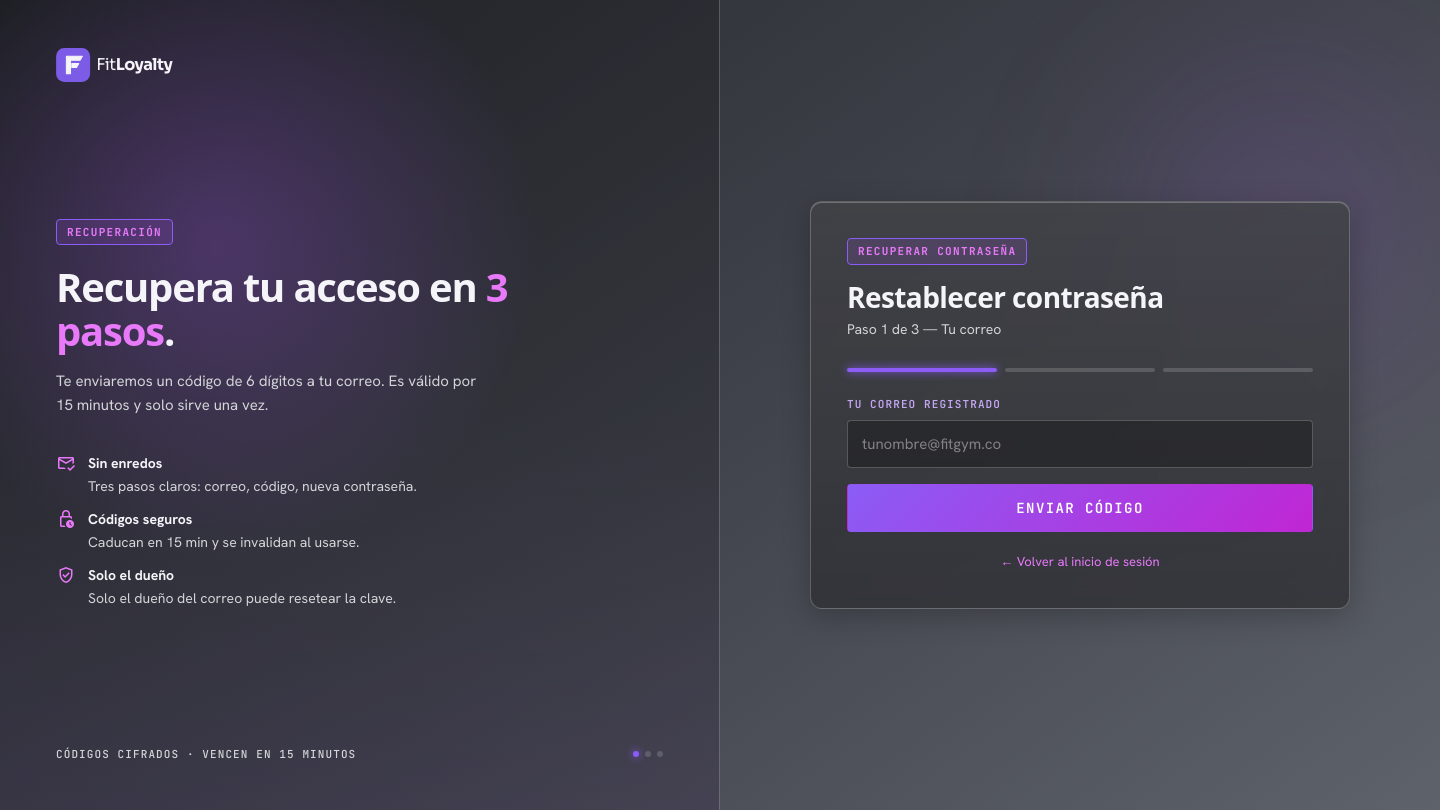
Test: ForgotPasswordPage: pedir el codigo › should show the API error and stay on the email step when the code cannot be sent
Type "ana@gym.co" into the field labelled "Tu correo registrado" at (1080, 444), box [847,420,1313,468]
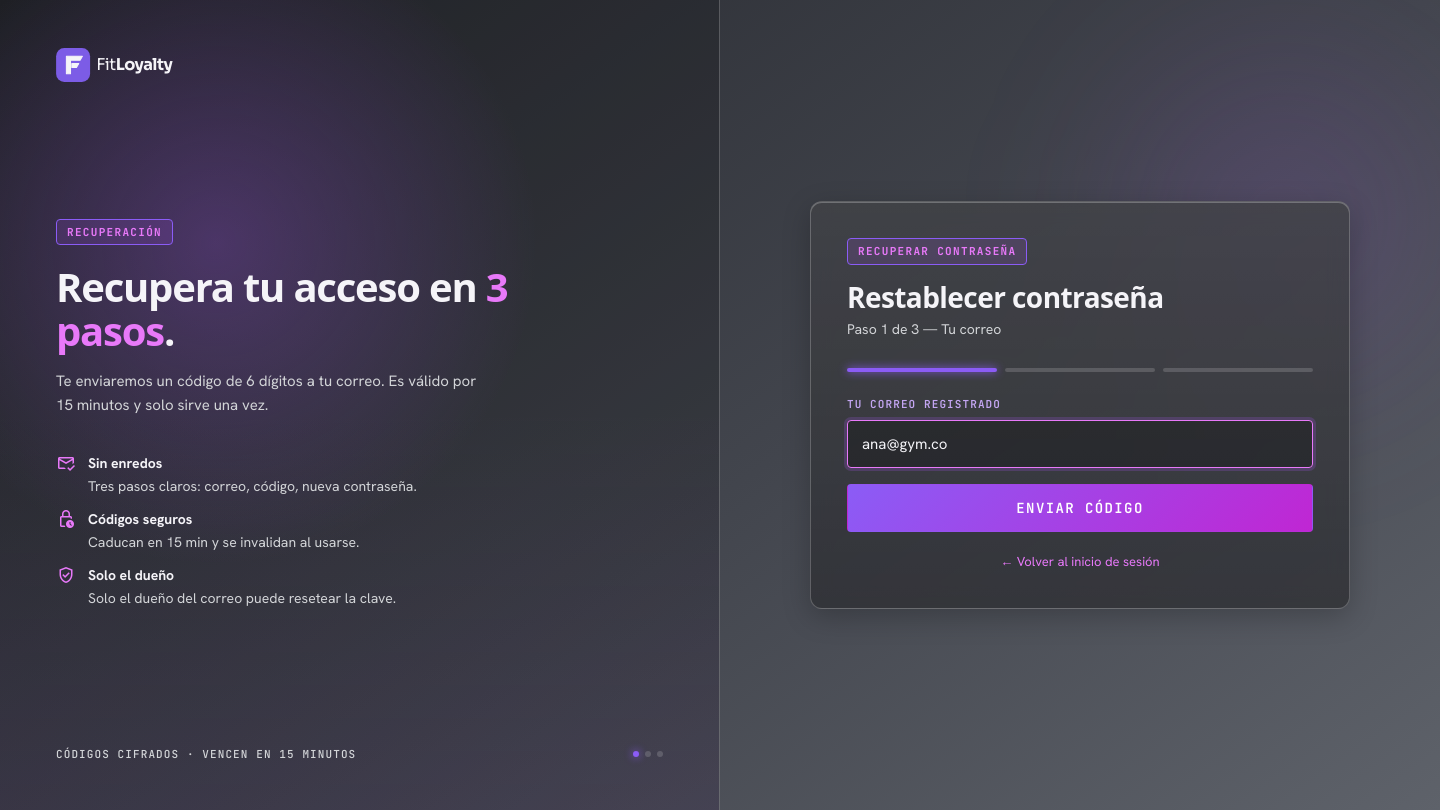
Click the button "Enviar código" at (1080, 508), box [847,484,1313,532]
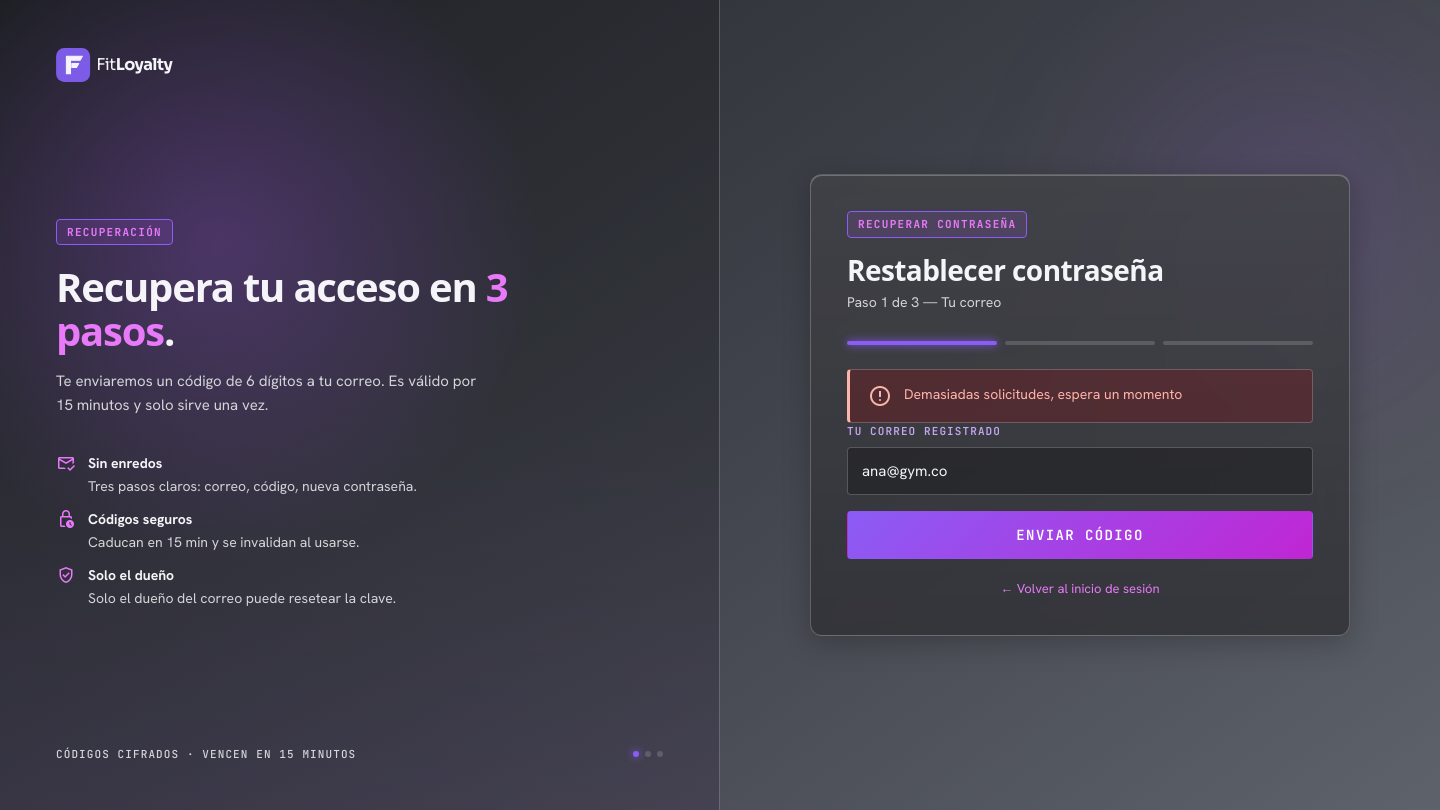
Check: the button "Enviar código" is enabled, box [847,511,1313,559]
Check: the message reads "Demasiadas solicitudes, espera un momento", box [904,385,1182,403]
